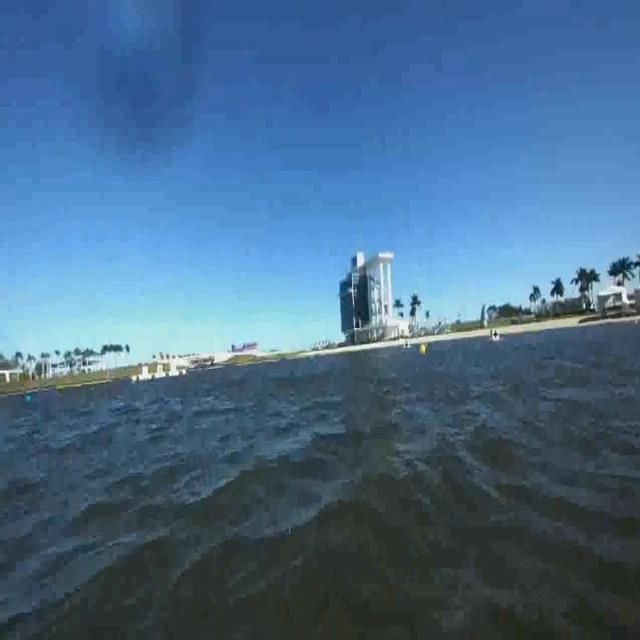yellow-buoy: (420, 343, 428, 358)
